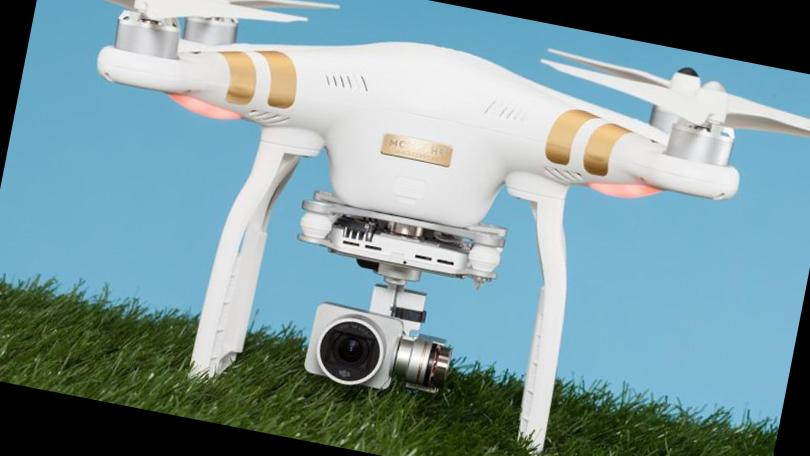drone: (18, 0, 810, 299)
